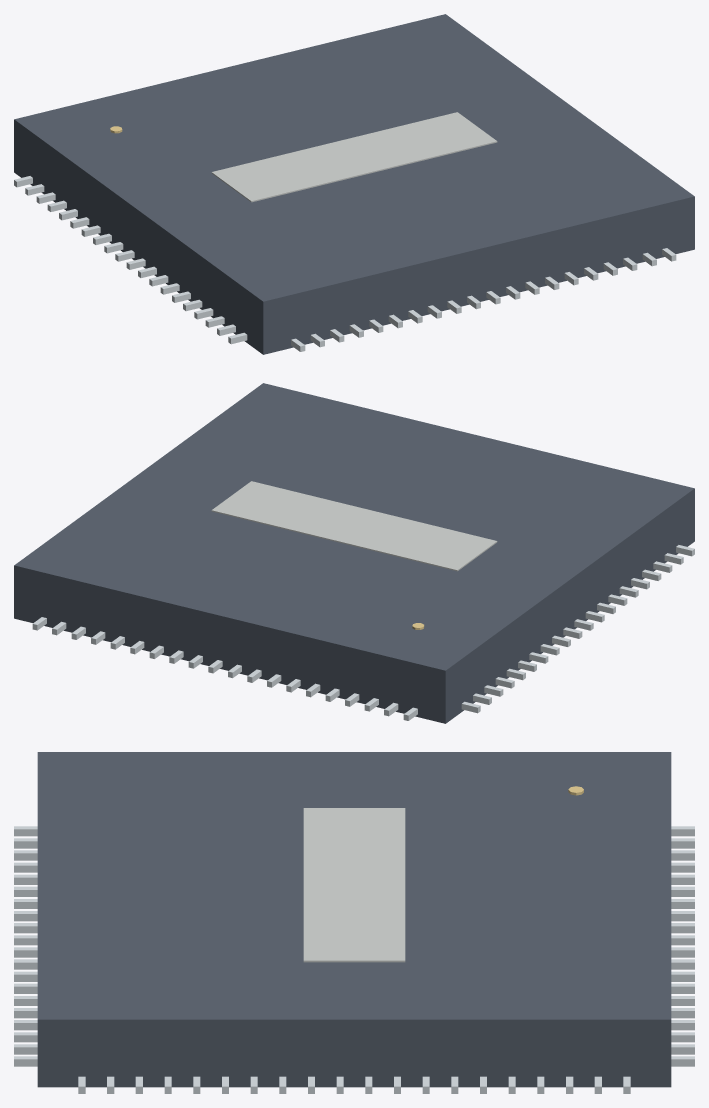
3 views of the same model, one above another, from view 1: azimuth 30°, elevation 25°; view 2: azimuth 150°, elevation 25°; view 3: azimuth 270°, elevation 25° (orthographic). The views are drawn at different scales.
Visible parts, largest first — view 1: 002_L114_U2__PSMAT__Black_Epoxy, 002_L114_U2__PSMAT__IC_LaserMark, 002_L114_U2__PSMAT__Tin_Solder; view 2: 002_L114_U2__PSMAT__Black_Epoxy, 002_L114_U2__PSMAT__IC_LaserMark, 002_L114_U2__PSMAT__Tin_Solder; view 3: 002_L114_U2__PSMAT__Black_Epoxy, 002_L114_U2__PSMAT__IC_LaserMark, 002_L114_U2__PSMAT__Tin_Solder.
Part boxes in pixels (x1,y1,x2,y2): 002_L114_U2__PSMAT__Black_Epoxy: [14, 14, 694, 354]; 002_L114_U2__PSMAT__IC_LaserMark: [211, 112, 497, 202]; 002_L114_U2__PSMAT__Tin_Solder: [14, 176, 676, 351]; 002_L114_U2__PSMAT__Black_Epoxy: [14, 383, 694, 723]; 002_L114_U2__PSMAT__IC_LaserMark: [211, 481, 497, 571]; 002_L114_U2__PSMAT__Tin_Solder: [32, 545, 694, 720]; 002_L114_U2__PSMAT__Black_Epoxy: [37, 752, 671, 1087]; 002_L114_U2__PSMAT__IC_LaserMark: [303, 808, 405, 962]; 002_L114_U2__PSMAT__Tin_Solder: [14, 826, 694, 1093].
Size of the model in its own units: 0.0301 by 0.00343 by 0.0301.
